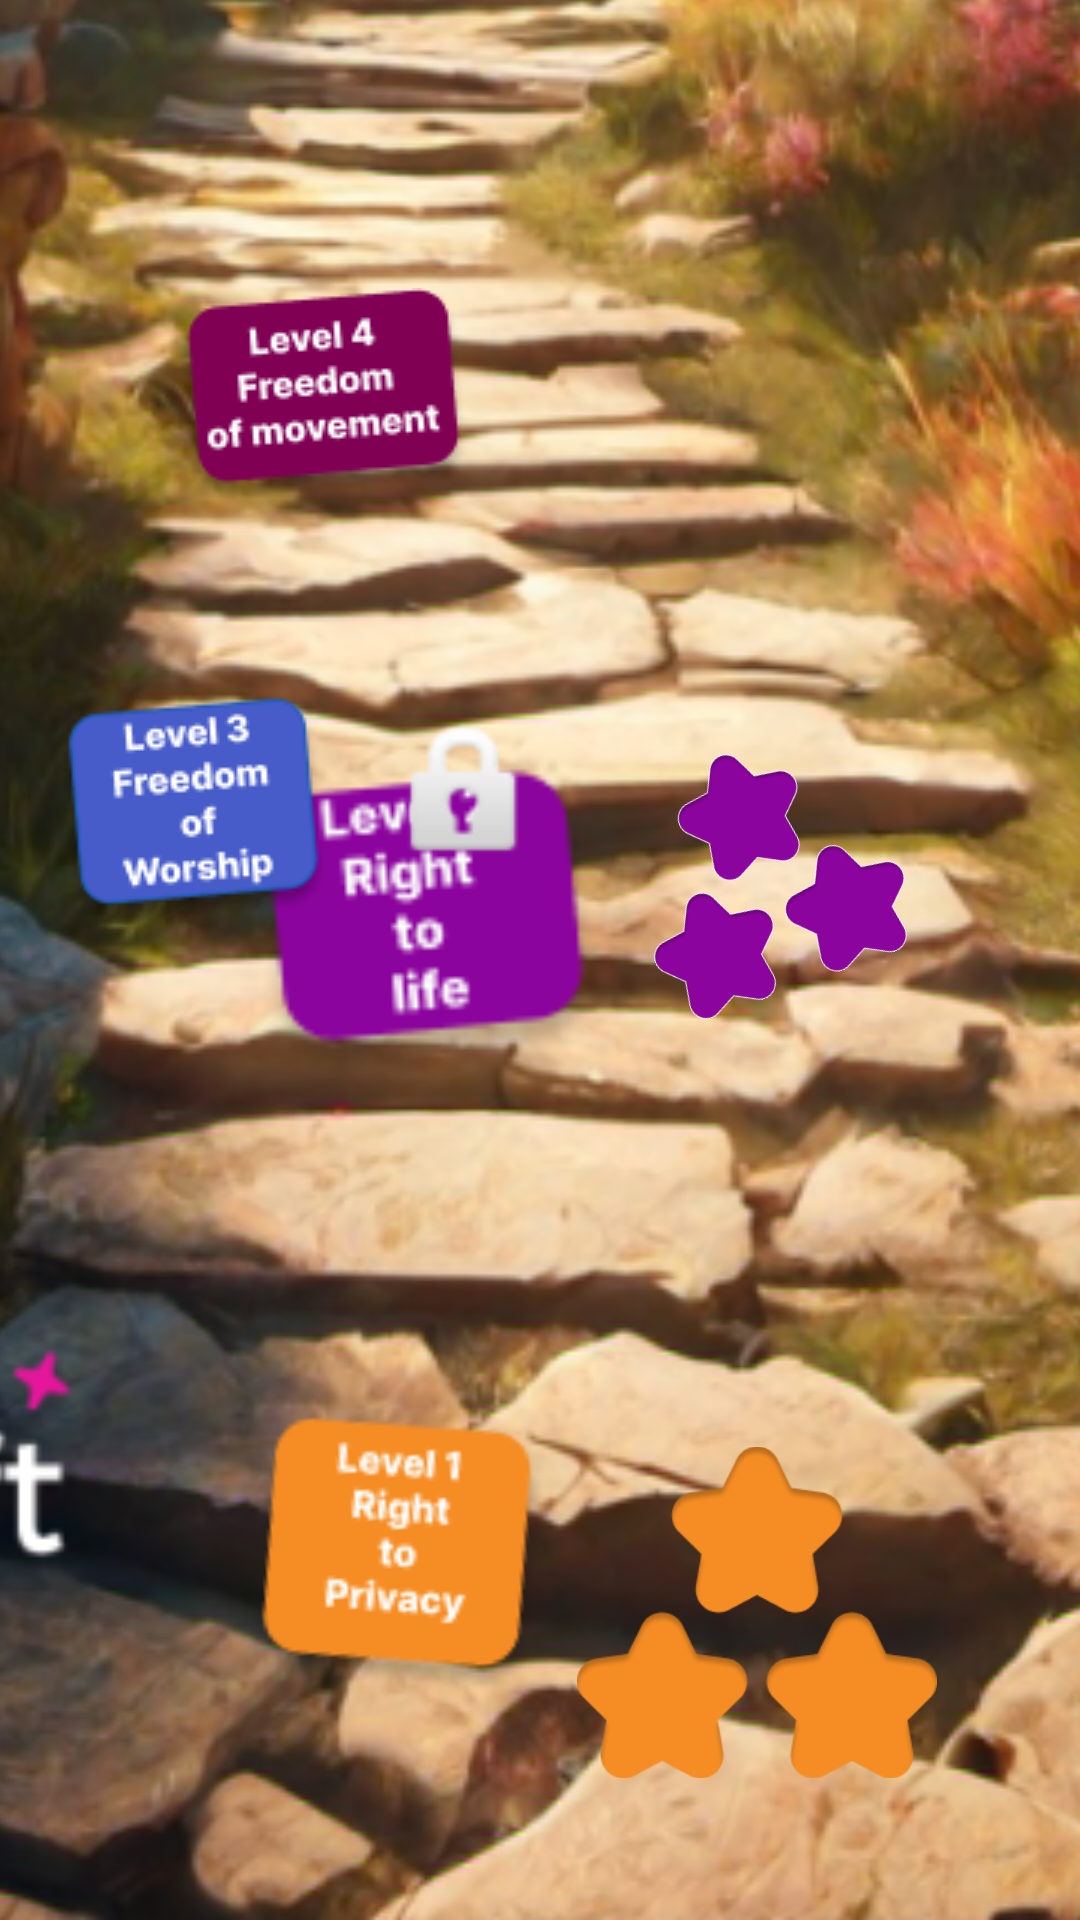

Icons on this 1080 x 1920 Android screen, each with the point to tap as point (x, y):
stars: point (757, 1612)
